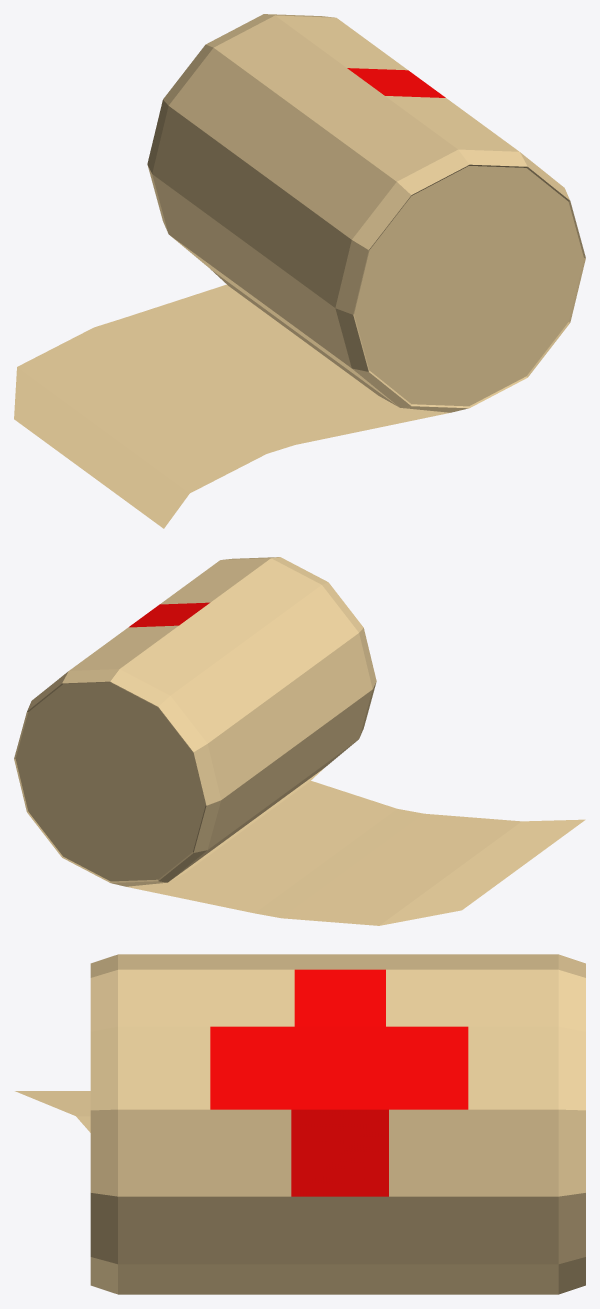
The model's file is bandage.glb.
3 renders of one model, top to bottom at view 1: azimuth 30°, elevation 25°; view 2: azimuth 150°, elevation 25°; view 3: azimuth 270°, elevation 25°, orthographic. The views are drawn at different scales.
Parts seen in each view (by area): view 1: Cylinder.001; view 2: Cylinder.001; view 3: Cylinder.001.
Part boxes in pixels (bbox=[...]): Cylinder.001: bbox=[14, 14, 585, 528]; Cylinder.001: bbox=[14, 557, 585, 925]; Cylinder.001: bbox=[15, 954, 585, 1294].
Size of the model in its own units: 0.1641 by 0.0904 by 0.1468.
